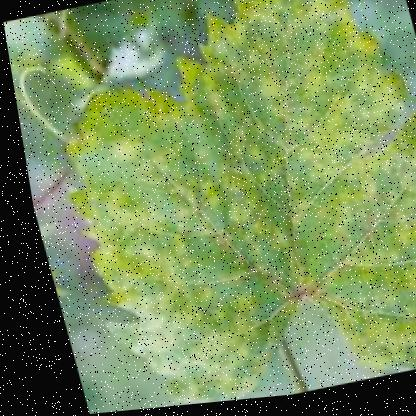DownyMildew: (21, 0, 415, 414), (31, 56, 277, 291), (200, 0, 415, 241), (116, 210, 317, 405), (288, 160, 415, 389)
